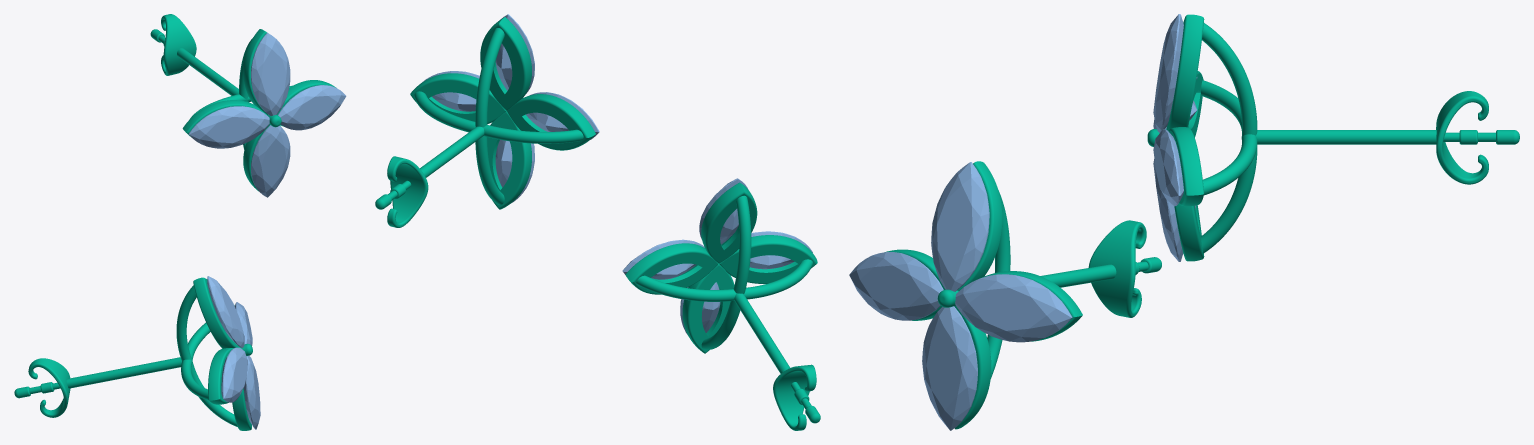
The picture shows the model from 3 angles, left to right: view 1: azimuth 30°, elevation 25°; view 2: azimuth 150°, elevation 25°; view 3: azimuth 270°, elevation 25°; orthographic projection. The views are drawn at different scales.
Visible parts, largest first — view 1: Diamond_Marquise (×8), flower earring(view change).3dm; view 2: flower earring(view change).3dm, Diamond_Marquise (×8); view 3: flower earring(view change).3dm, Diamond_Marquise (×7).
Boxes of the visible parts, bbox=[...] form: Diamond_Marquise (×8): bbox=[188, 32, 346, 429]; flower earring(view change).3dm: bbox=[14, 14, 336, 430]; flower earring(view change).3dm: bbox=[375, 17, 820, 430]; Diamond_Marquise (×8): bbox=[422, 14, 812, 334]; flower earring(view change).3dm: bbox=[885, 14, 1519, 429]; Diamond_Marquise (×7): bbox=[849, 14, 1197, 430].
Size of the model in its own units: 2.27 by 2.05 by 2.58.
